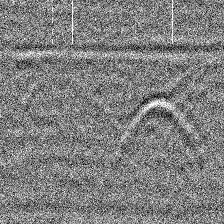Utility: (119, 95, 207, 176)
